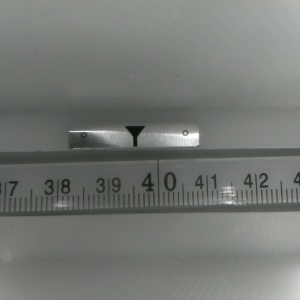0: (163, 172, 176, 191)
1: (210, 175, 216, 190)
2: (258, 172, 268, 188)
3: (43, 180, 54, 195), (95, 177, 105, 193), (60, 179, 70, 195)
4: (141, 172, 155, 192), (242, 173, 253, 188), (194, 175, 204, 190), (293, 171, 300, 187)
7: (6, 180, 17, 196)
9: (111, 177, 121, 193)
finger: (122, 126, 145, 147)
